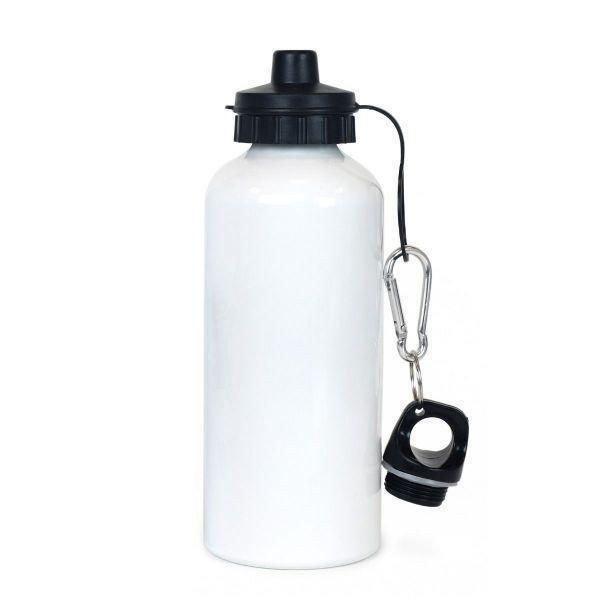gym bottle: (199, 45, 389, 576)
